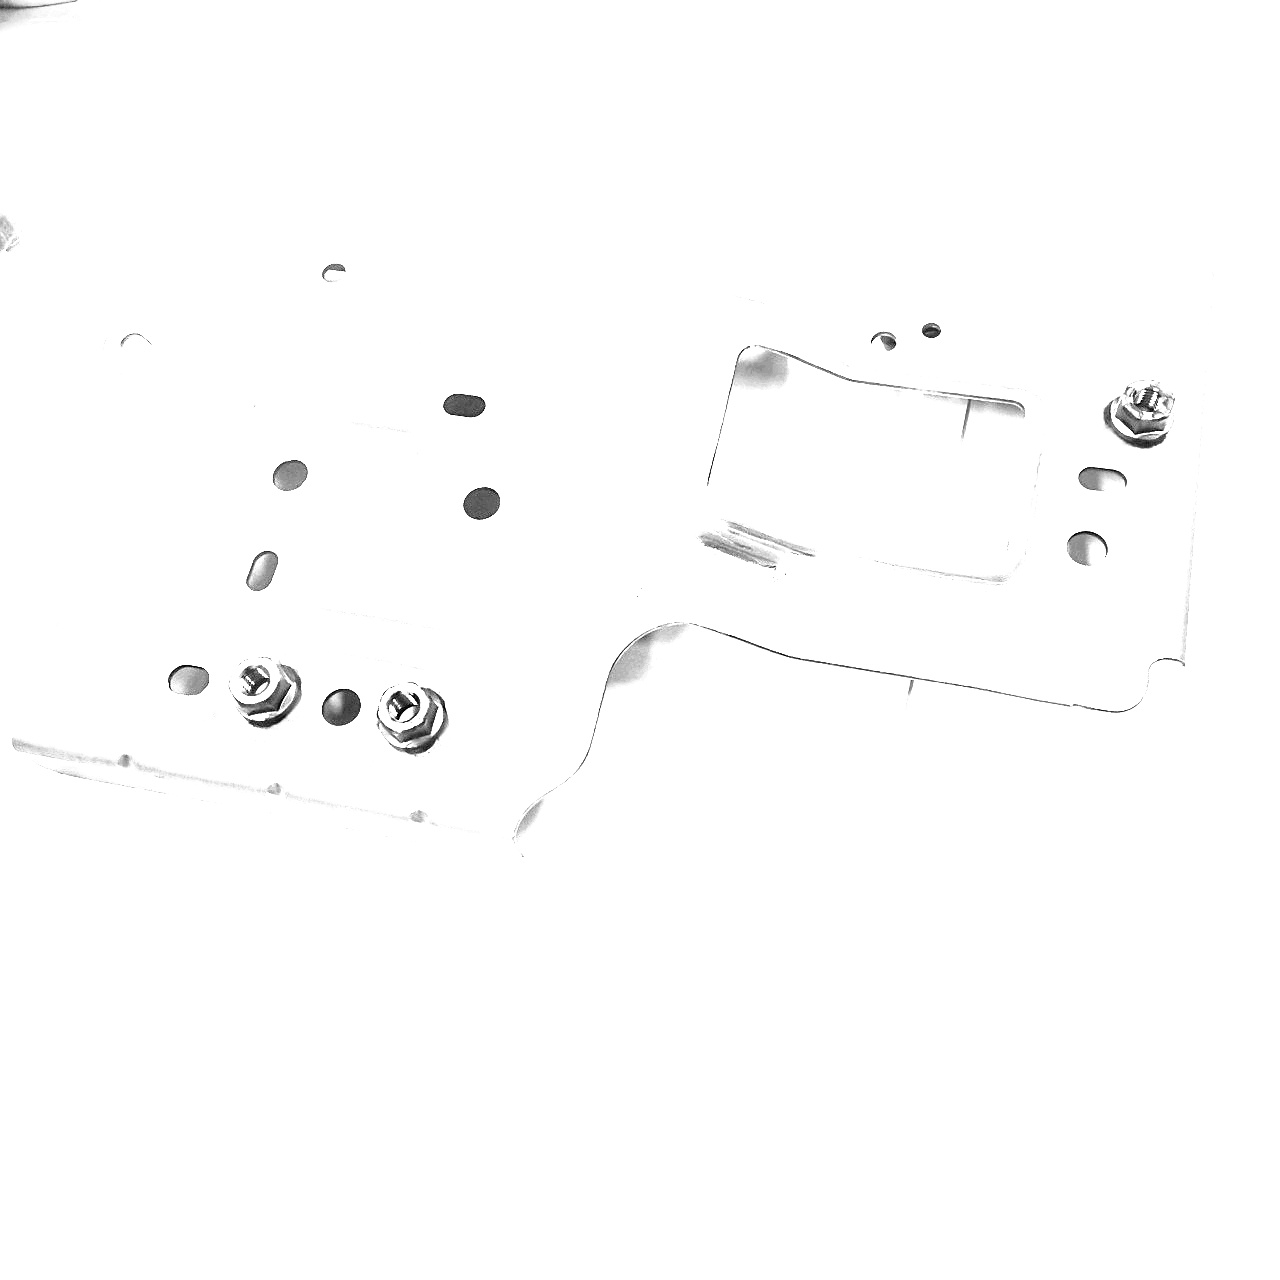dog: (372, 676, 452, 760), (224, 654, 308, 734), (1099, 376, 1180, 450)
